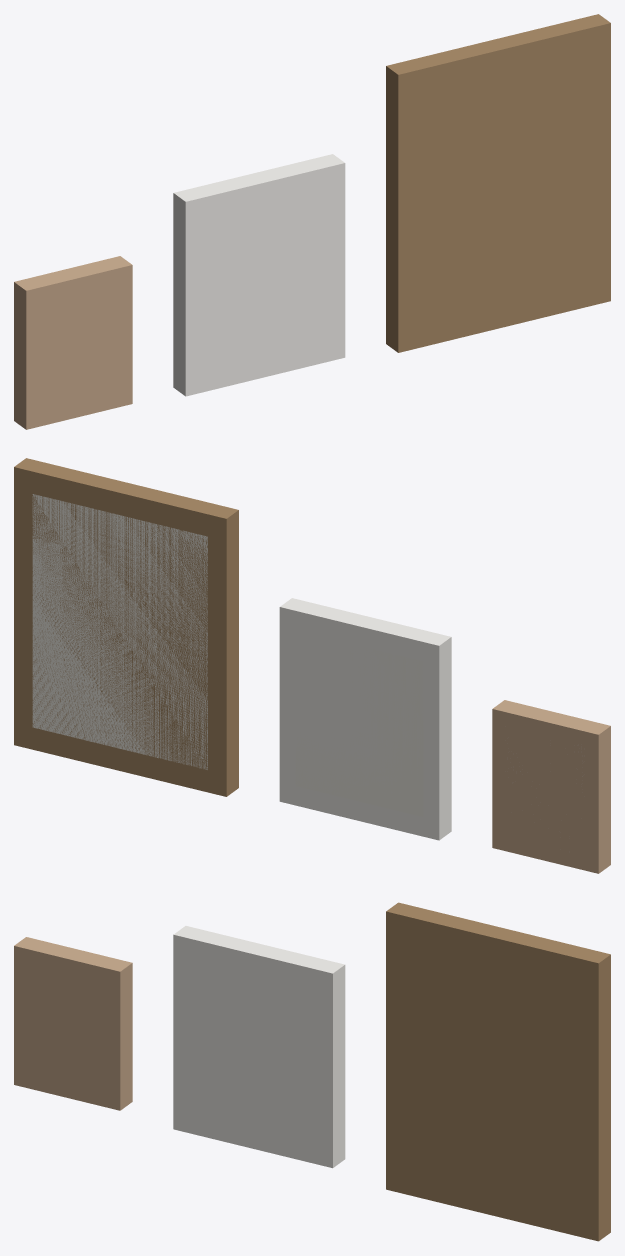
File: photo_frames.glb
3 views of the same model, one above another, from view 1: azimuth 30°, elevation 25°; view 2: azimuth 150°, elevation 25°; view 3: azimuth 330°, elevation 25° (orthographic).
Visible parts, largest first — view 1: PhotoFrames; view 2: PhotoFrames; view 3: PhotoFrames.
Part boxes in pixels (bbox=[...]): PhotoFrames: bbox=[14, 14, 610, 429]; PhotoFrames: bbox=[14, 458, 610, 873]; PhotoFrames: bbox=[14, 902, 610, 1241].
Bounding box in the file's own units: 1.1 × 0.5 × 0.04.
